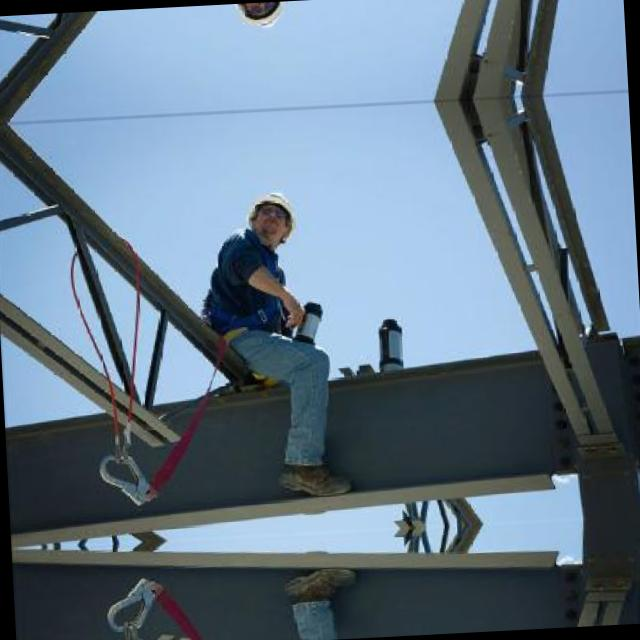helmet: (240, 180, 300, 256), (229, 1, 289, 40)
